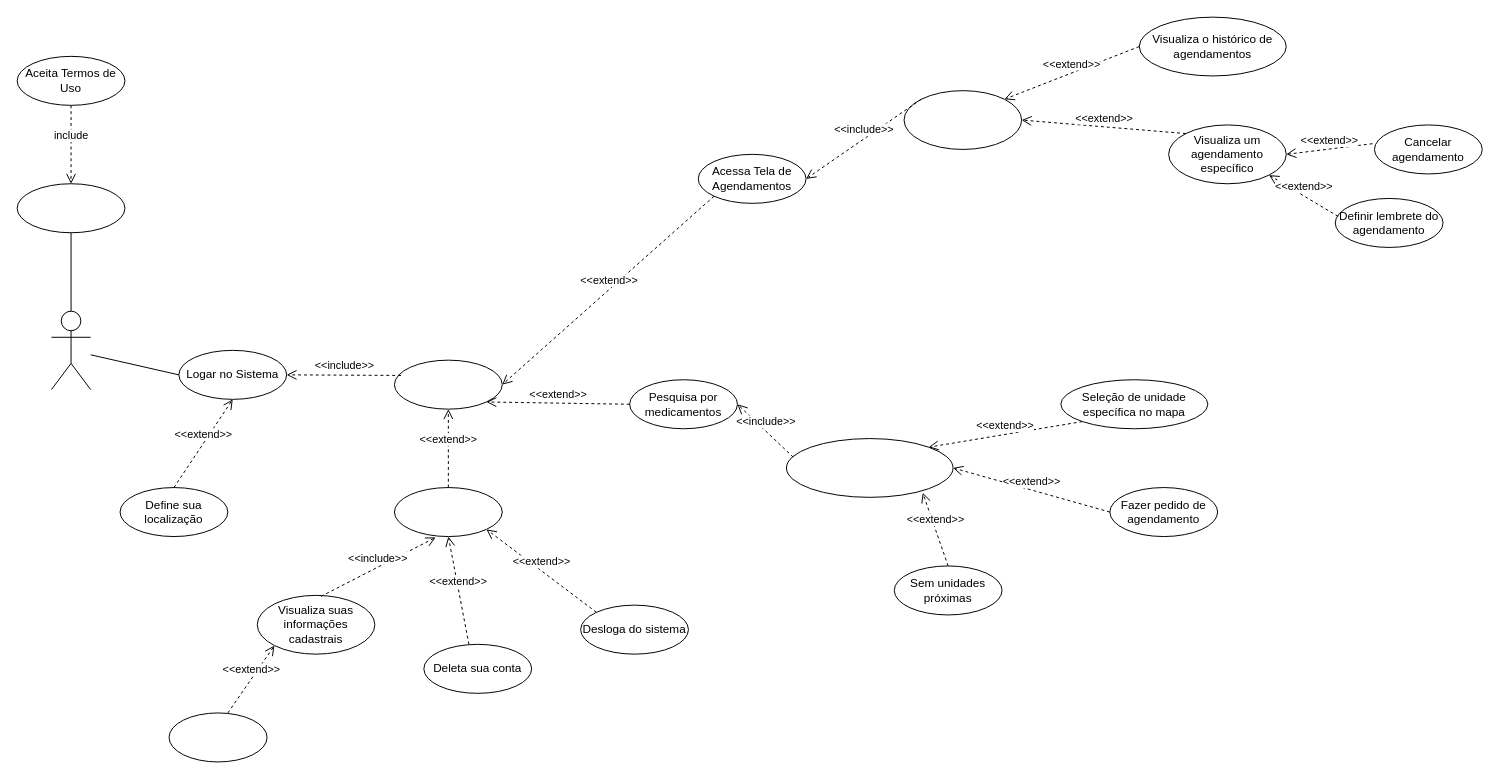
This 1499x779 diagram has some shape labels left out. Each missing label, with the centre of its shape:
Acessa Tela Inicial: pixel 447 384
Acessa Tela Perfil: pixel 447 512
Altera suas informações: pixel 217 737
Cadastra no Sistema: pixel 70 208
Usuário: pixel 70 350
Visualiza seus agendamentos: pixel 962 119
Visualizar unidades que possuam o medicamento: pixel 869 467
